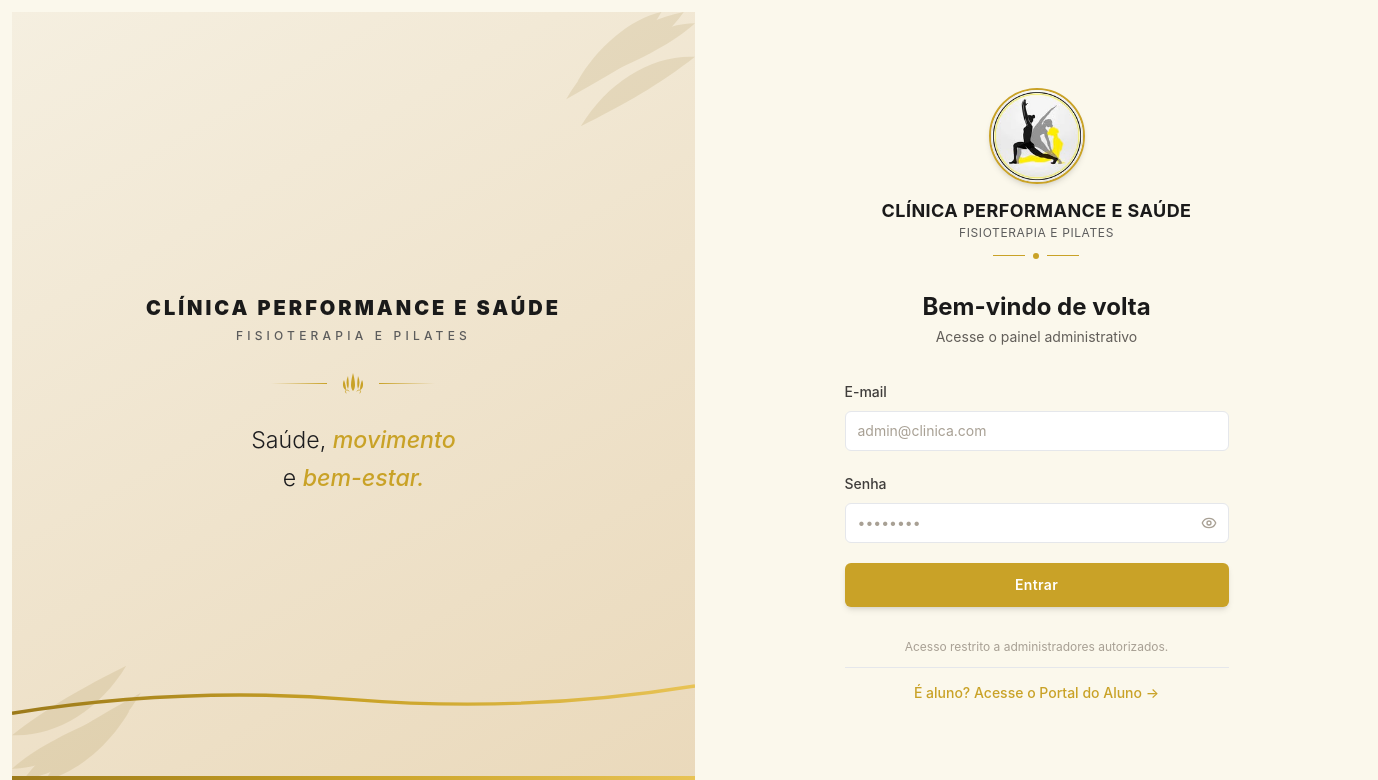
AdminLoginPage › exibe erros de validação ao submeter o formulário vazio
Click the button "Entrar": x=1036, y=585 [844, 563, 1228, 607]
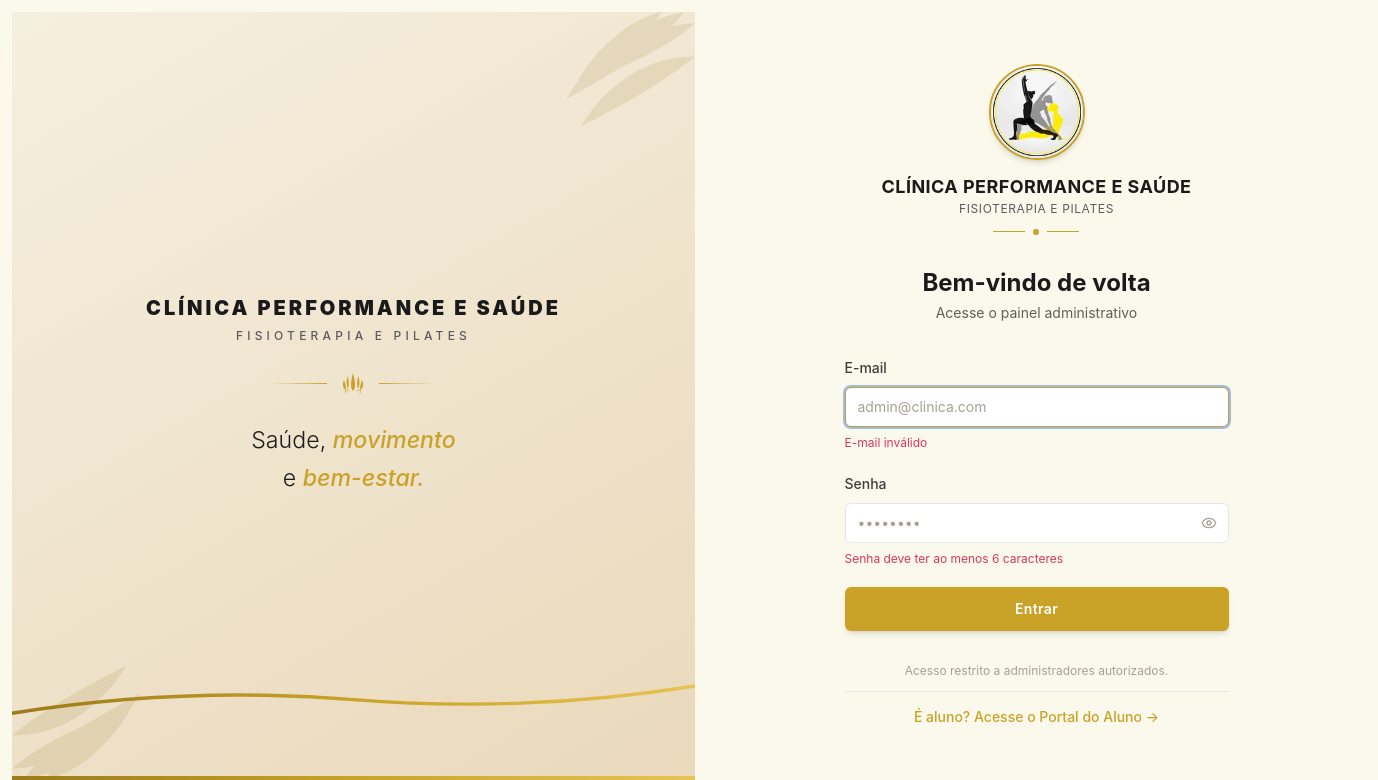
Result: the text "E-mail inválido" is shown at [844, 435, 927, 450]
Result: the text "Senha deve ter ao menos 6 caracteres" is shown at [844, 551, 1063, 566]
